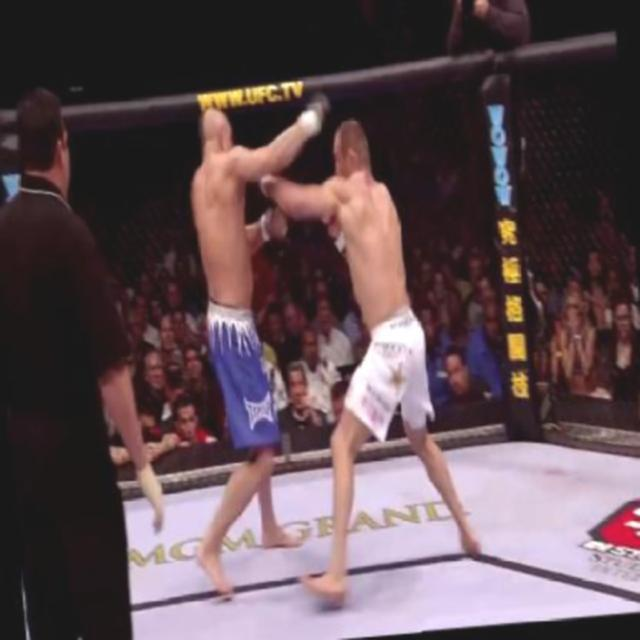fight: (183, 89, 448, 611)
